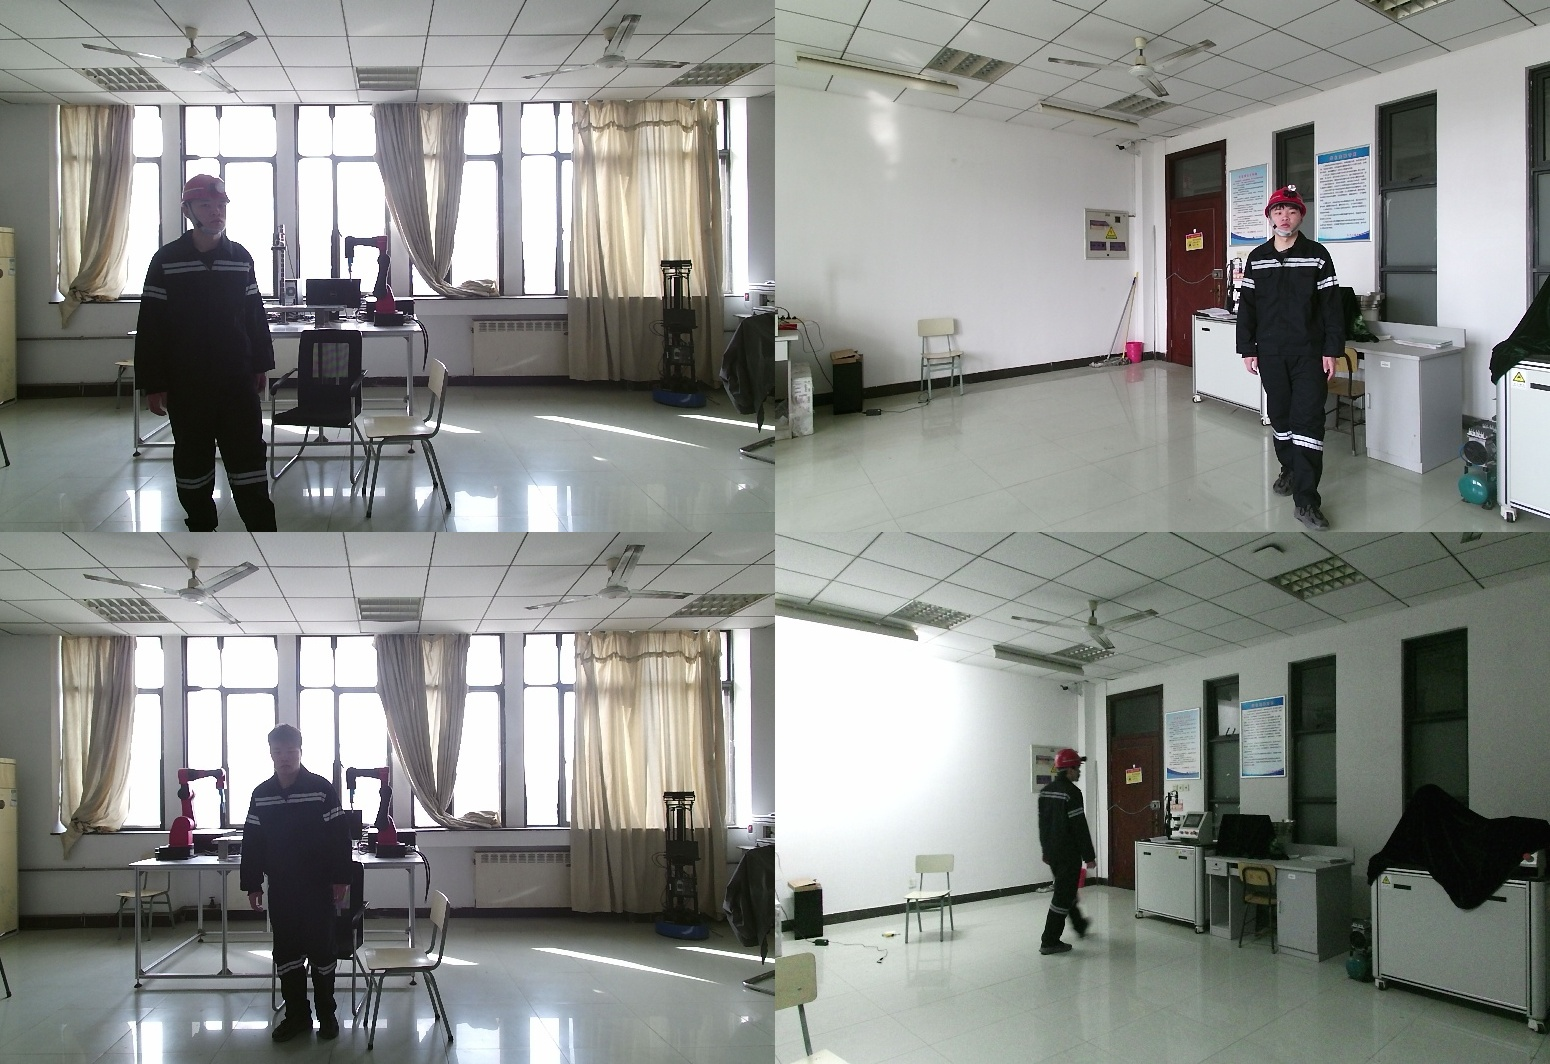person: (139, 176, 293, 532), (1243, 188, 1356, 528), (242, 723, 361, 1039), (1034, 750, 1101, 960)
